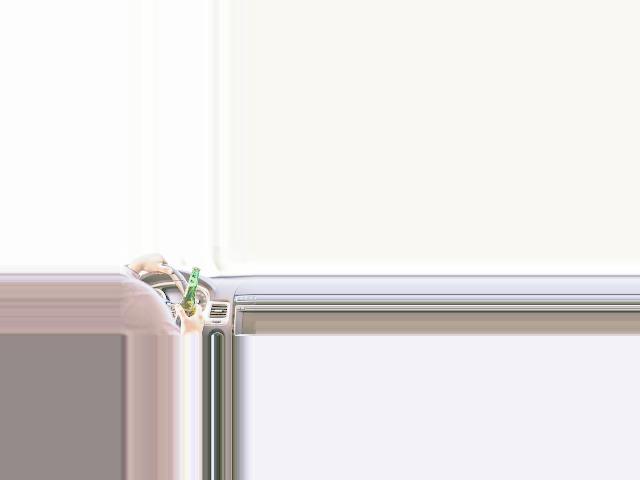beer: (174, 266, 201, 329)
